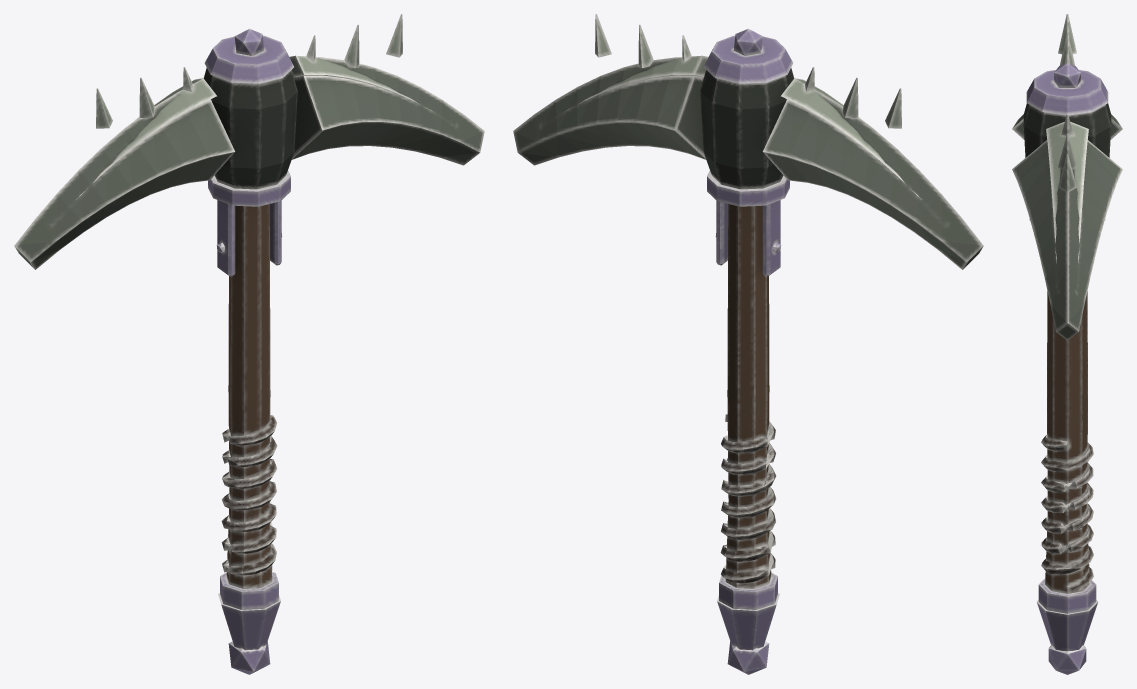
File: BogIronPickaxe.glb
The picture shows the model from 3 angles, left to right: view 1: azimuth 30°, elevation 25°; view 2: azimuth 150°, elevation 25°; view 3: azimuth 270°, elevation 25°; orthographic projection. The views are drawn at different scales.
Visible parts, largest first — view 1: Body__Tex; view 2: Body__Tex; view 3: Body__Tex.
Part boxes in pixels (left/top/right/bottom): Body__Tex: left=14, top=14, right=484, bottom=674; Body__Tex: left=513, top=14, right=983, bottom=674; Body__Tex: left=1012, top=14, right=1122, bottom=674.
Bounding box in the file's own units: 3.25 × 4.26 × 0.7.
1 material, 1 textured.
